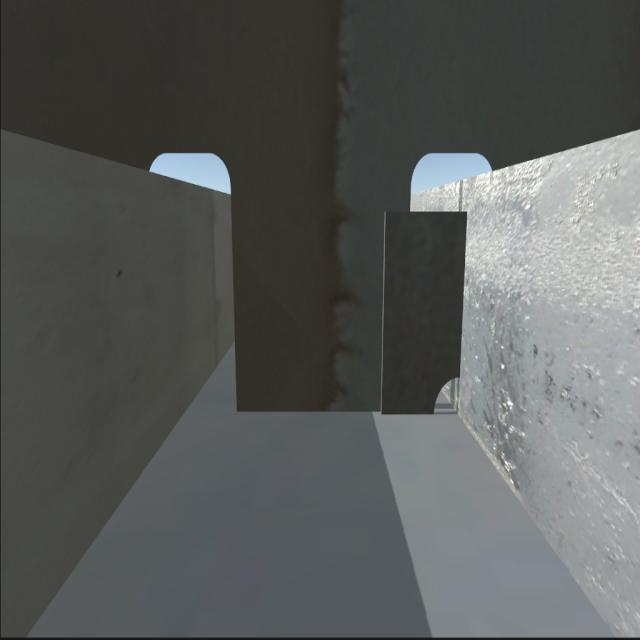fillet_hole: (431, 373, 462, 419)
fillet_yong_jeop_jang: (243, 409, 435, 419)
longi_yong_jeop_jang: (452, 212, 474, 376)
plate_CP01: (384, 209, 468, 410)
